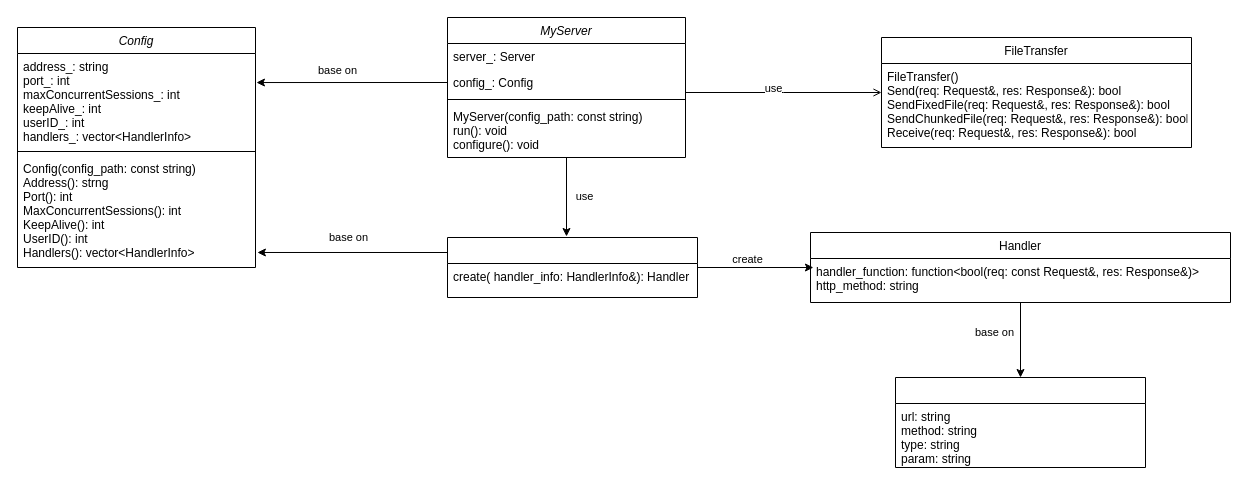
Image size: 1248x488. Some labels were removed from this diagram. Each missing label, with the box of its shape:
HandlerFactory: (446, 236, 698, 298)
HandlerInfo: (894, 376, 1146, 468)
